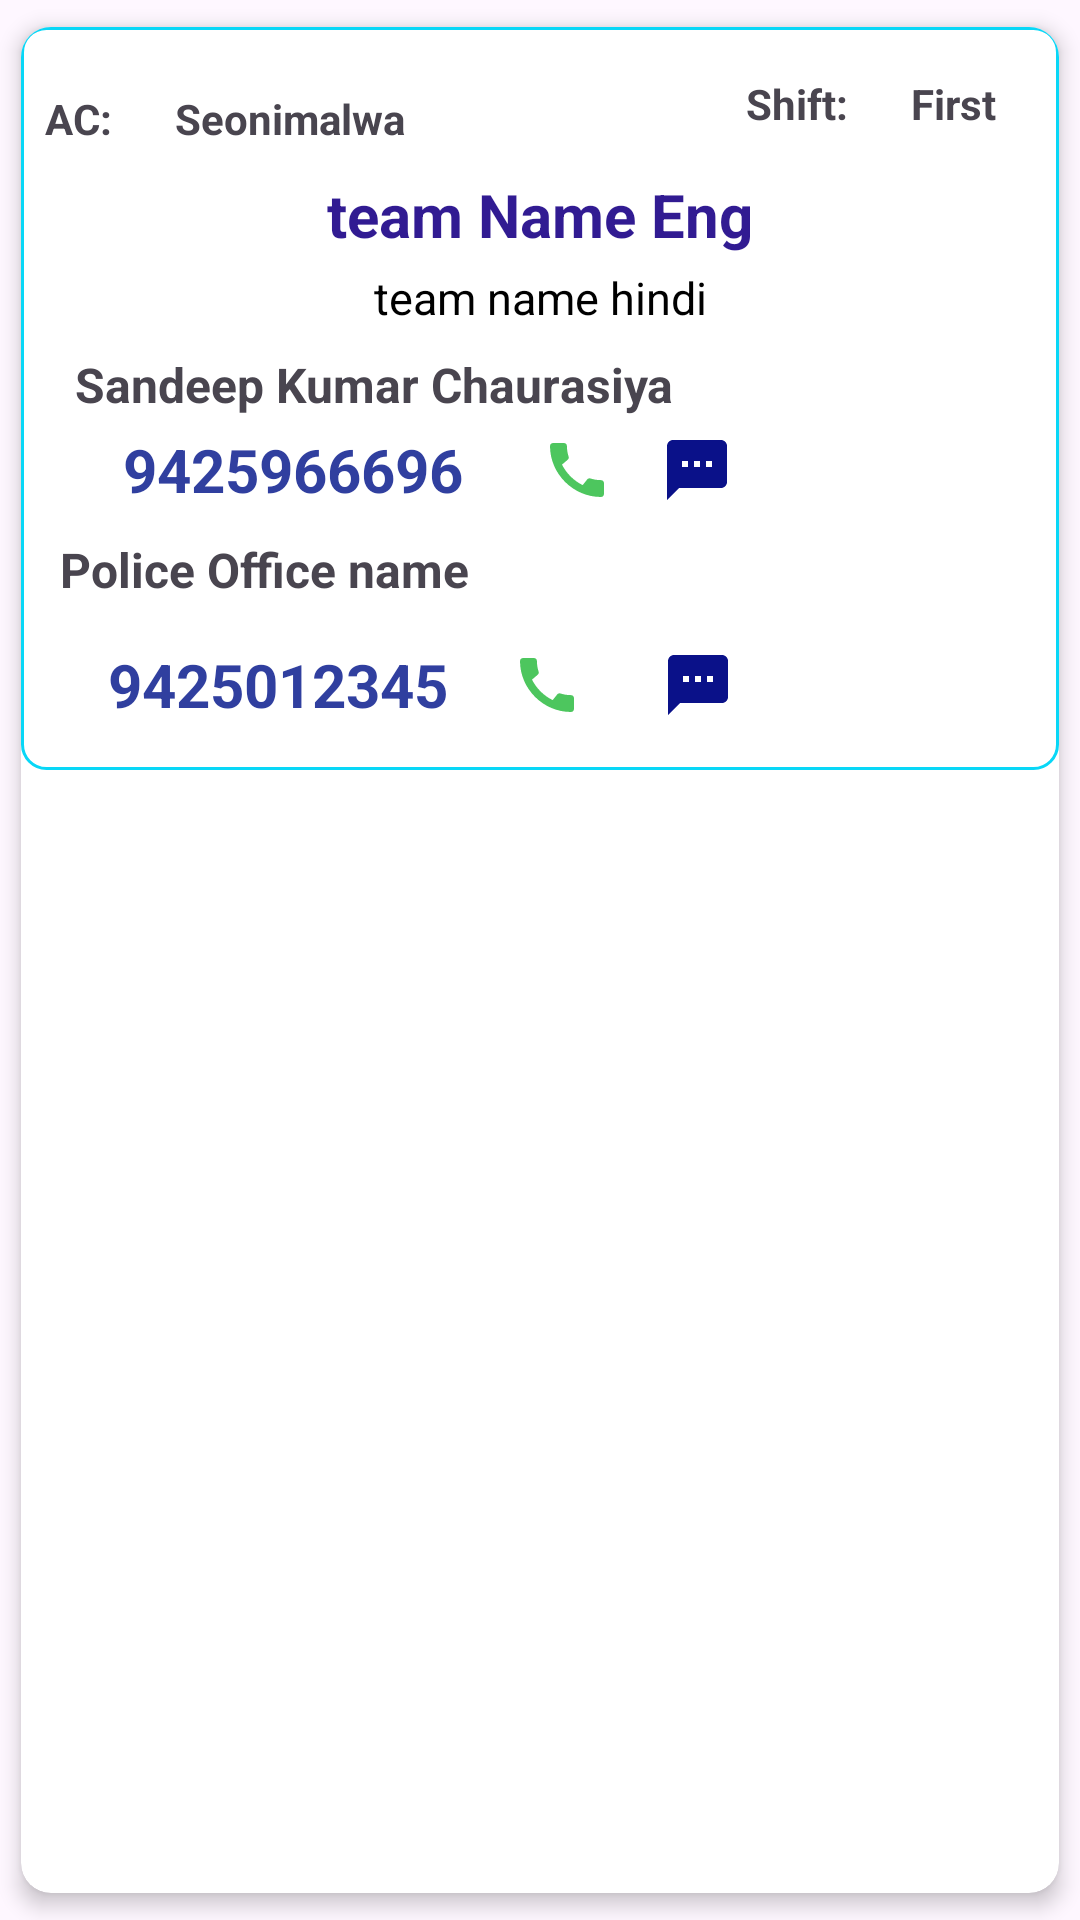

Icons on this 1080px×1920px Android screen, each with the point to tap as point (x, y):
call: point (577, 470), point (547, 685)
